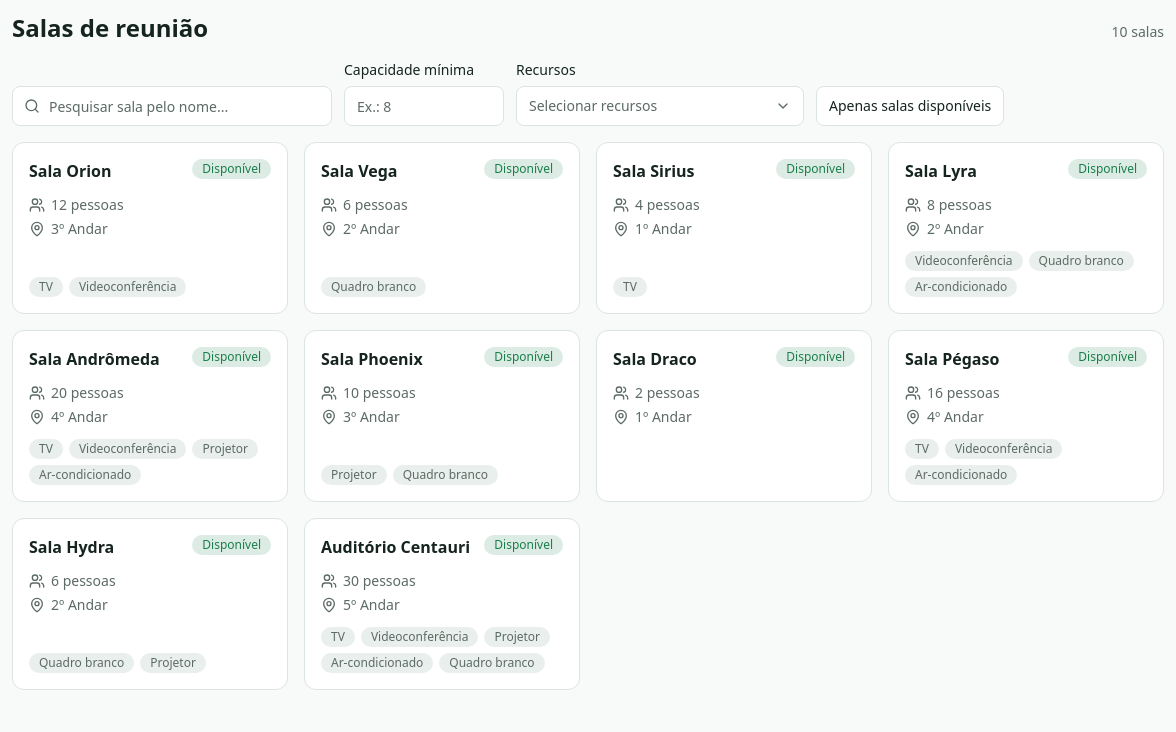
Home (rooms listing) › searches by name ignoring accents and syncs the url
Expected: the heading "Sala Orion" is shown, [29,159,112,183]
Type "pegaso" into the search field labelled "Pesquisar sala" at (172, 106), box [12,86,332,126]
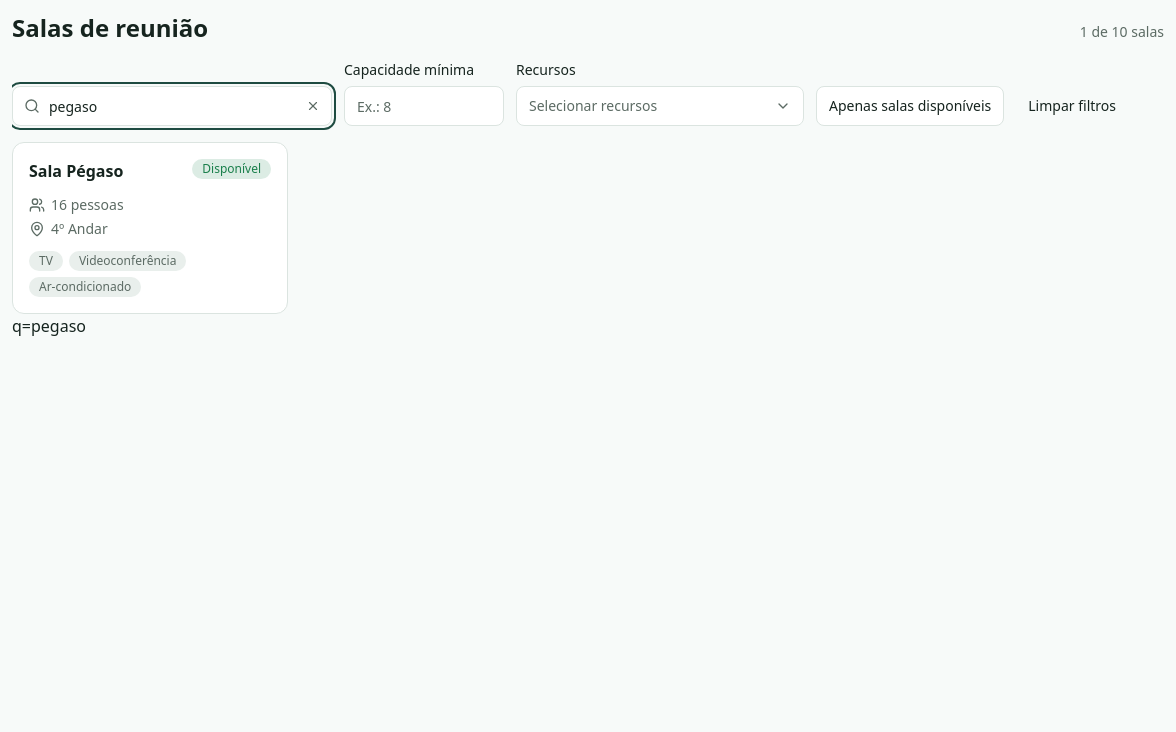
Expected: the text "1 de 10 salas" is shown, [1080,22,1164,42]
Expected: the link "Sala Orion" is gone
Expected: the text with test id "query-string" reads "q=pegaso", [12,315,86,337]
